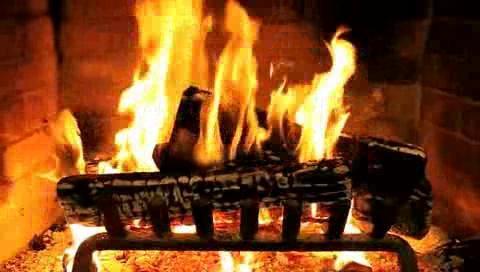fire: (113, 4, 359, 169)
